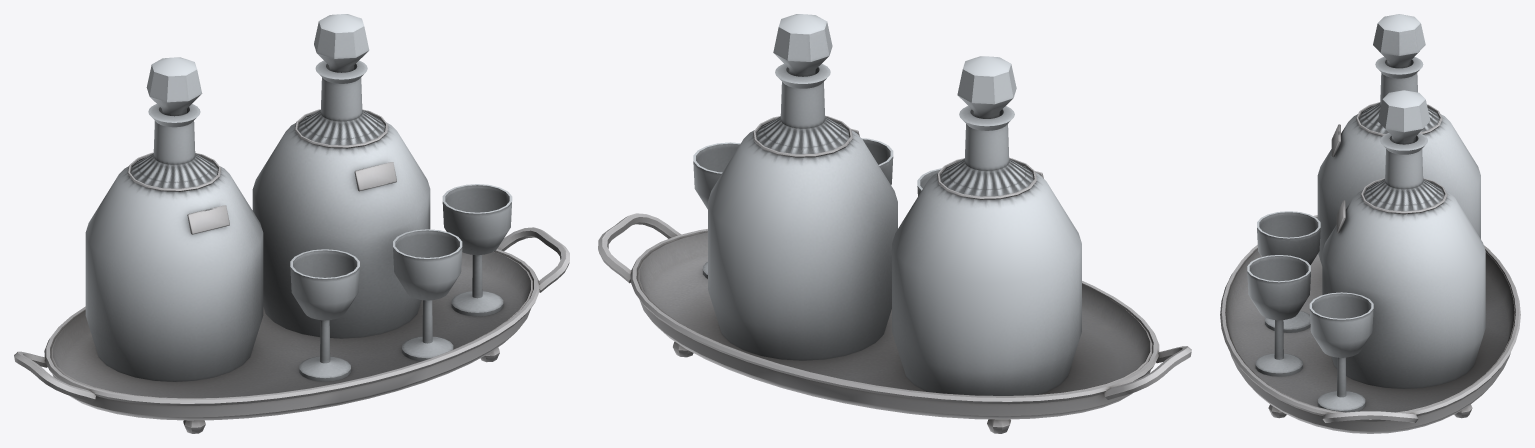
File: DecanterTray.fbx
3 views of the same model, side by side, from view 1: azimuth 30°, elevation 25°; view 2: azimuth 150°, elevation 25°; view 3: azimuth 270°, elevation 25° (orthographic). The views are drawn at different scales.
Parts seen in each view (by area): view 1: DecanterTray_Glass, DecanterTray_Main; view 2: DecanterTray_Glass, DecanterTray_Main; view 3: DecanterTray_Glass, DecanterTray_Main.
Boxes of the visible parts, x1,y1,x2,y2 form: DecanterTray_Glass: (85,14,512,381); DecanterTray_Main: (14,109,569,433); DecanterTray_Glass: (693,14,1081,395); DecanterTray_Main: (598,115,1191,433); DecanterTray_Glass: (1247,14,1485,412); DecanterTray_Main: (1220,102,1520,433).
Bounding box in the file's own units: 232 × 134 × 125.
